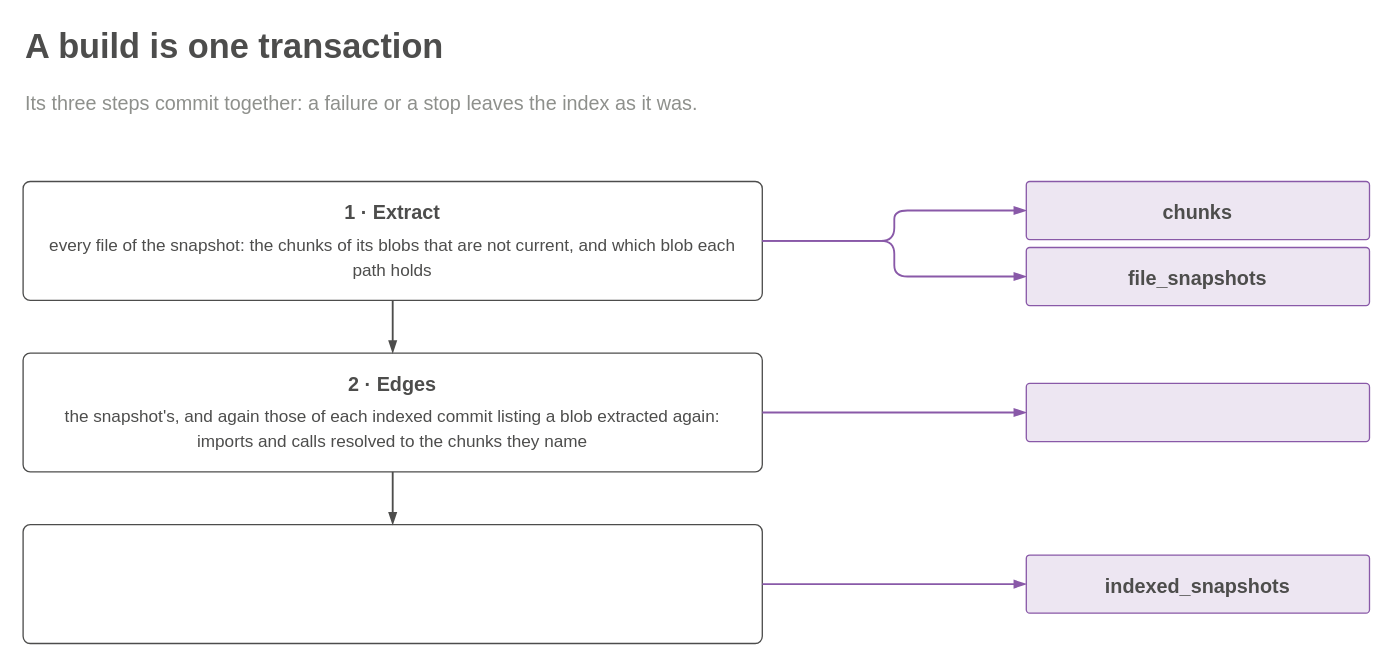
The diagram is 1393 pixels wide and 667 high, and some of its shapes have lost their labels. Each missing label, with the centre of its shape:
"3 · Finish mark the snapshot indexed; delete what no snapshot claims" belongs at [392,583].
"edges" belongs at [1197,412].
